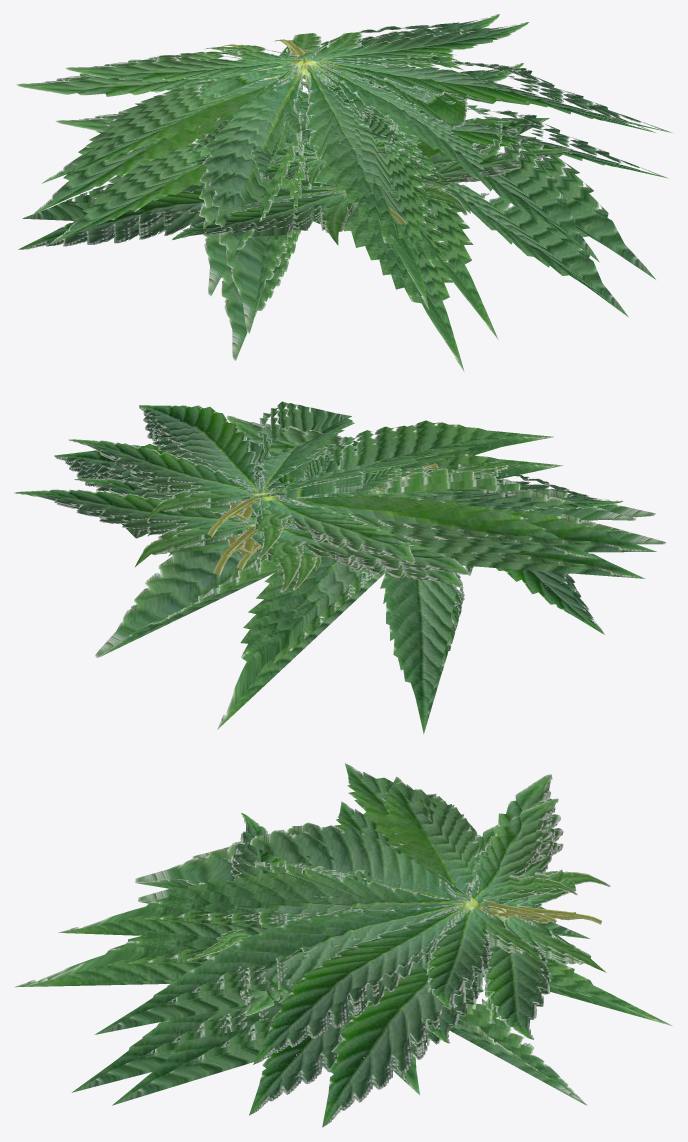
File: 7potleaves.fbx
The picture shows the model from 3 angles, top to bottom: view 1: azimuth 30°, elevation 25°; view 2: azimuth 150°, elevation 25°; view 3: azimuth 270°, elevation 25°; orthographic projection. The views are drawn at different scales.
Visible parts, largest first — view 1: Plane_Plane.002.155, Plane_Plane.002.150, Plane_Plane.002.157, Plane_Plane.002.193, Plane_Plane.002.204, Plane_Plane.002.209; view 2: Plane_Plane.002.155, Plane_Plane.002.193, Plane_Plane.002.150, Plane_Plane.002.157, Plane_Plane.002.204; view 3: Plane_Plane.002.155, Plane_Plane.002.150, Plane_Plane.002.157, Plane_Plane.002.193.
Boxes of the visible parts, bbox=[...] form: Plane_Plane.002.155: bbox=[41, 22, 655, 309]; Plane_Plane.002.150: bbox=[16, 14, 672, 339]; Plane_Plane.002.157: bbox=[48, 63, 668, 371]; Plane_Plane.002.193: bbox=[18, 117, 573, 249]; Plane_Plane.002.204: bbox=[187, 79, 420, 181]; Plane_Plane.002.209: bbox=[185, 106, 421, 188]; Plane_Plane.002.155: bbox=[68, 401, 636, 563]; Plane_Plane.002.193: bbox=[95, 415, 623, 734]; Plane_Plane.002.150: bbox=[14, 437, 656, 592]; Plane_Plane.002.157: bbox=[74, 445, 666, 590]; Plane_Plane.002.204: bbox=[243, 455, 415, 525]; Plane_Plane.002.155: bbox=[58, 776, 577, 1064]; Plane_Plane.002.150: bbox=[24, 763, 610, 1127]; Plane_Plane.002.157: bbox=[14, 801, 545, 1115]; Plane_Plane.002.193: bbox=[187, 813, 672, 1105].
Size of the model in its own units: 177 by 44.01 by 163.
